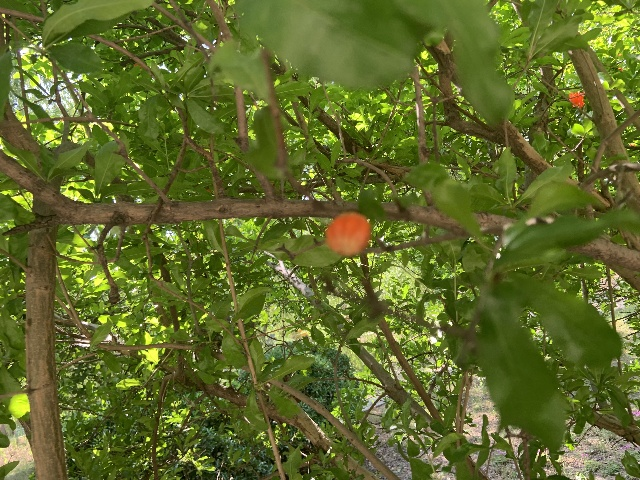bud: (325, 213, 371, 255)
flower: (568, 91, 584, 108)
